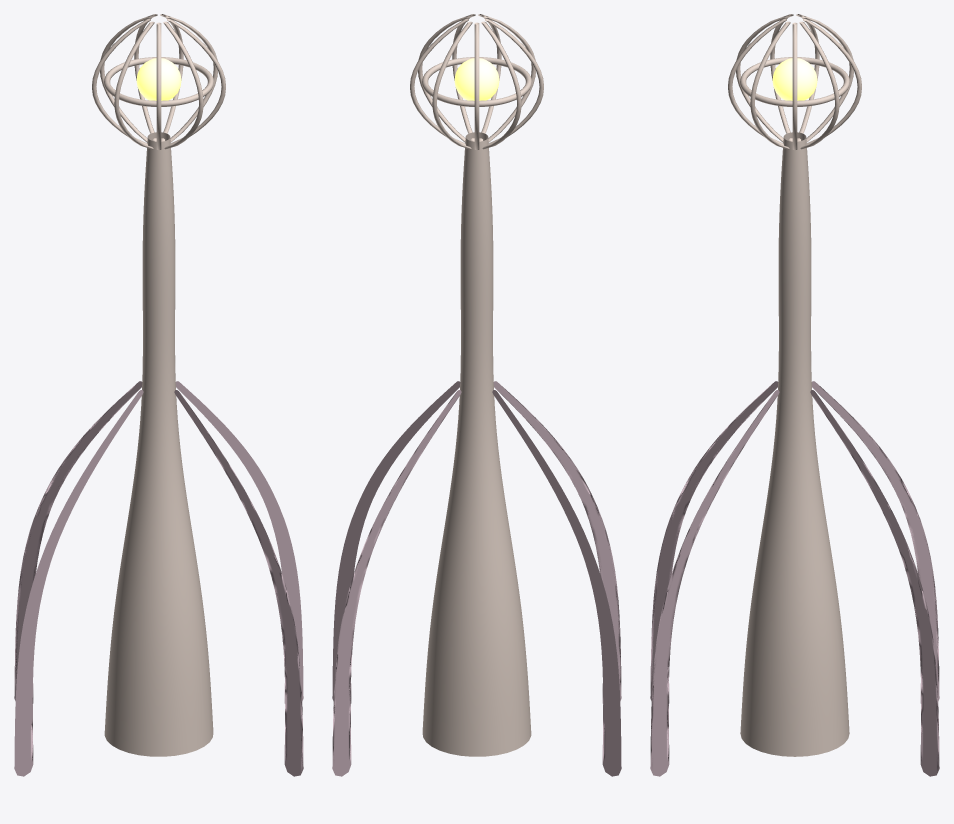
File: tour_semeurs.glb
3 renders of one model, left to right at view 1: azimuth 30°, elevation 25°; view 2: azimuth 150°, elevation 25°; view 3: azimuth 270°, elevation 25°, orthographic.
Parts seen in each view (by area): view 1: fut, cote.003, cote.005, cote.002, cote, lumiere, anneau_cage, cage.006, cage.005, cage.007, cage.004, cage.008 (+2 smaller); view 2: fut, cote.001, cote.003, cote.004, cote, lumiere, anneau_cage, cage.003, cage.002, cage.004, cage.001, cage.005 (+2 smaller); view 3: fut, cote.001, cote.005, cote.002, cote.004, lumiere, anneau_cage, cage, cage.001, cage.008, cage.002, cage.007 (+2 smaller).
Boxes of the visible parts, <box> form: fut: <box>104,132,213,756</box>; cote.003: <box>14,390,143,776</box>; cote.005: <box>174,390,303,776</box>; cote.002: <box>14,381,142,703</box>; cote: <box>175,381,303,703</box>; lumiere: <box>136,58,181,100</box>; anneau_cage: <box>104,57,213,106</box>; cage.006: <box>156,22,161,150</box>; cage.005: <box>114,21,154,149</box>; cage.007: <box>163,21,203,149</box>; cage.004: <box>92,19,150,145</box>; cage.008: <box>167,19,225,145</box>; fut: <box>422,132,531,756</box>; cote.001: <box>332,390,461,776</box>; cote.003: <box>492,390,621,776</box>; cote.004: <box>493,381,621,703</box>; cote: <box>332,381,460,703</box>; lumiere: <box>454,58,499,100</box>; anneau_cage: <box>422,57,531,106</box>; cage.003: <box>474,22,479,150</box>; cage.002: <box>432,21,472,149</box>; cage.004: <box>481,21,521,149</box>; cage.001: <box>410,19,468,145</box>; cage.005: <box>485,19,543,145</box>; fut: <box>740,132,849,756</box>; cote.001: <box>810,390,939,776</box>; cote.005: <box>650,390,779,776</box>; cote.002: <box>811,381,939,703</box>; cote.004: <box>650,381,778,703</box>; lumiere: <box>772,58,817,100</box>; anneau_cage: <box>740,57,849,106</box>; cage: <box>792,22,797,150</box>; cage.001: <box>799,21,839,149</box>; cage.008: <box>750,21,790,149</box>; cage.002: <box>803,19,861,145</box>; cage.007: <box>728,19,786,145</box>.
Size of the model in its own units: 19.26 by 46.13 by 16.68.
